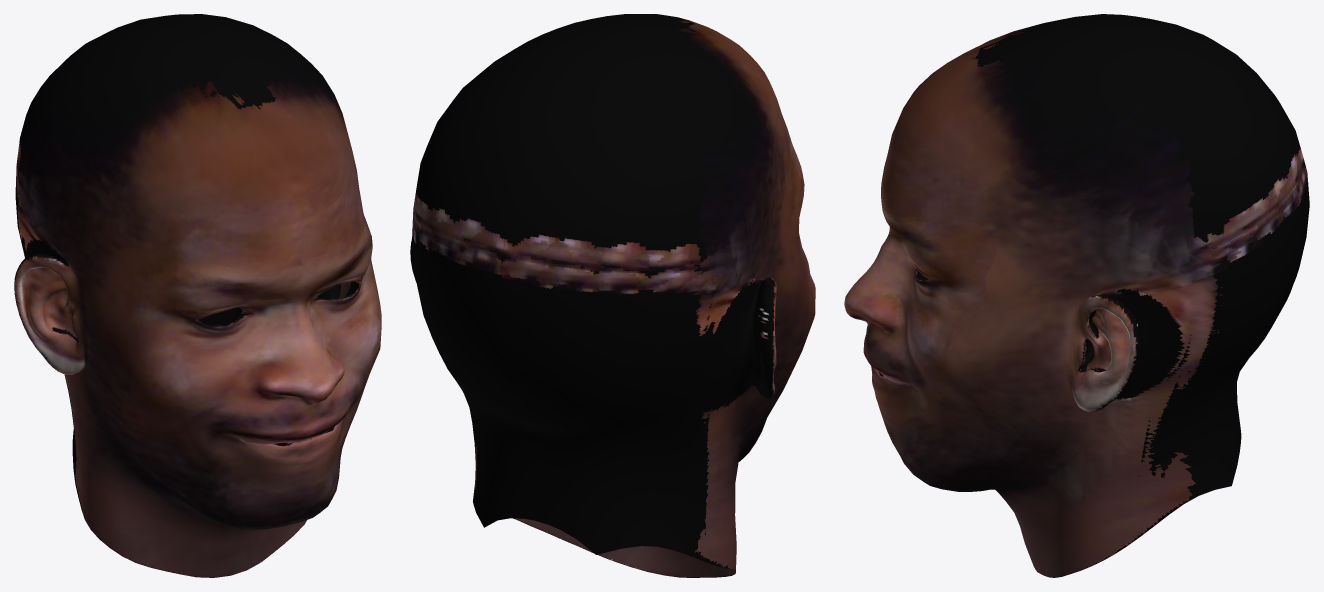
Rendered from ChinRaise.obj.
3 renders of one model, left to right at view 1: azimuth 30°, elevation 25°; view 2: azimuth 150°, elevation 25°; view 3: azimuth 270°, elevation 25°, orthographic. The views are drawn at different scales.
Size of the model in its own units: 191 by 281 by 224.
